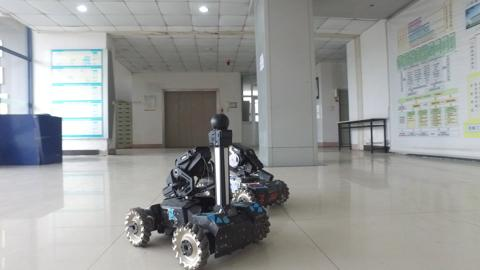chariot: (118, 109, 273, 270), (214, 137, 291, 221)
